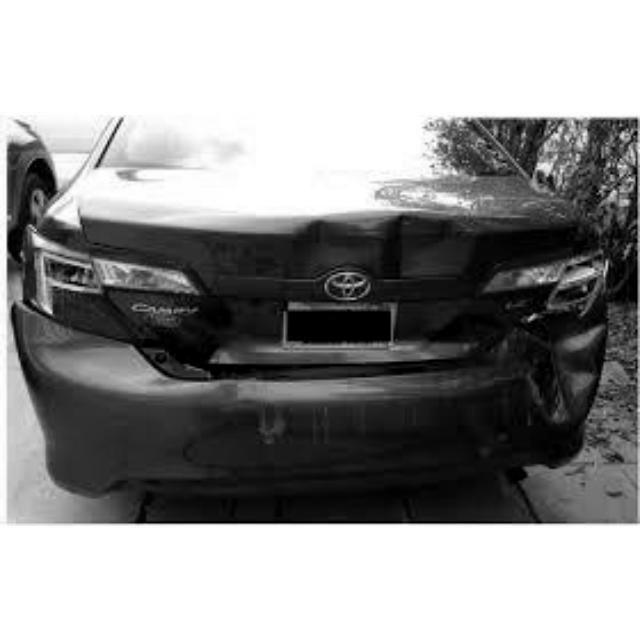boot-dent: (149, 188, 469, 373)
